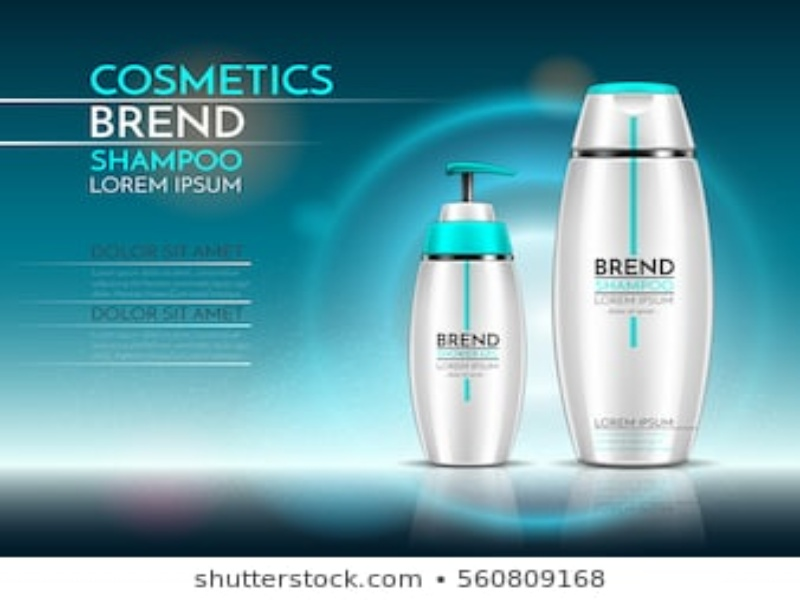shampoo-bottle: (551, 79, 715, 471), (407, 159, 525, 469)
